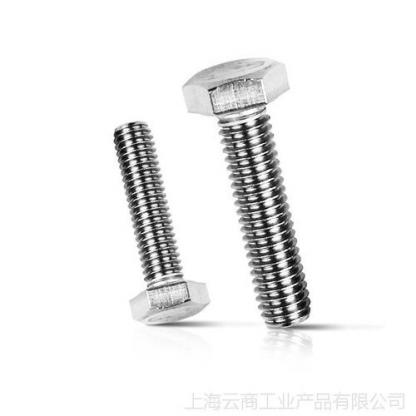FOD: (179, 54, 314, 335), (112, 118, 212, 329)
